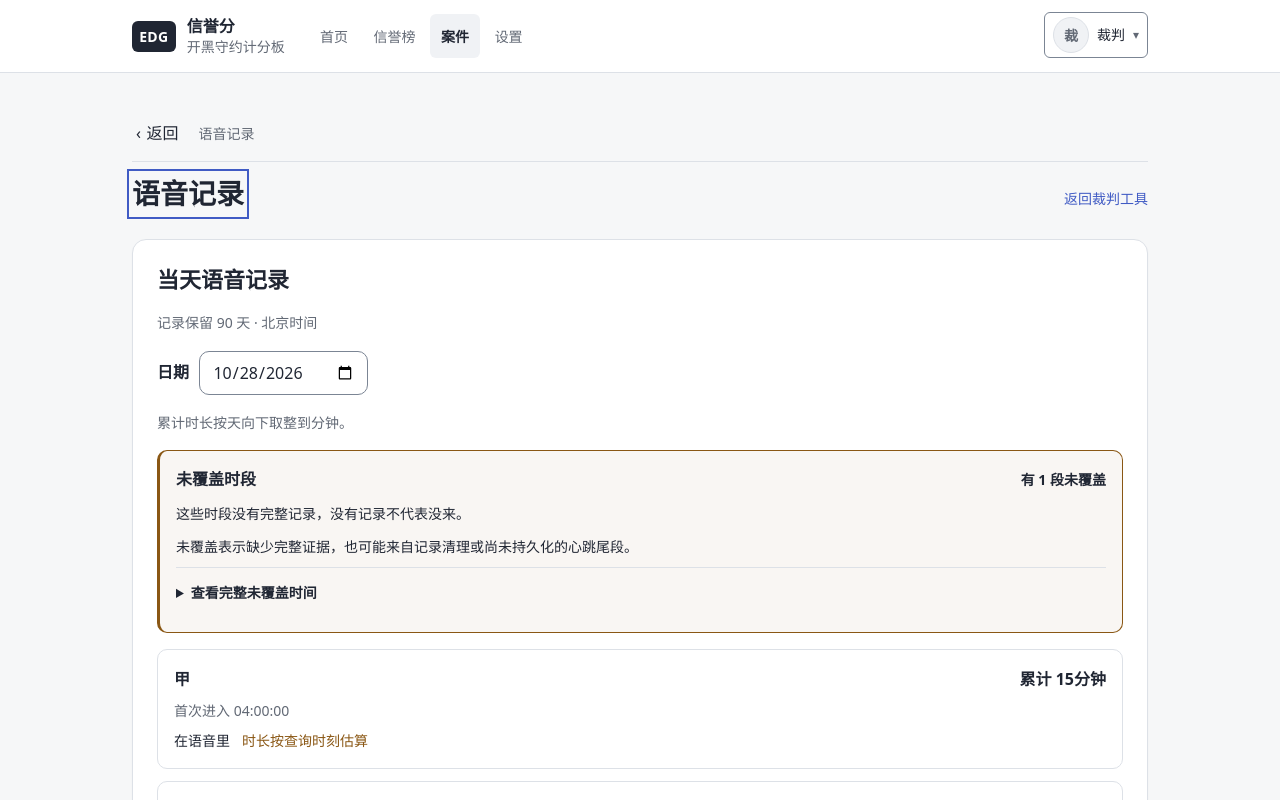
Scenario: voice management page › pushes a selected person into the URL and fetches their default seven-day history
What coordinates should you click on to do the following:
click the link "甲 累计 15分钟 首次进入 04:00:00 在语音里 时长按查询时刻估算"
I would click on:
 (1038, 679)
Its box is [157,649,1123,769].
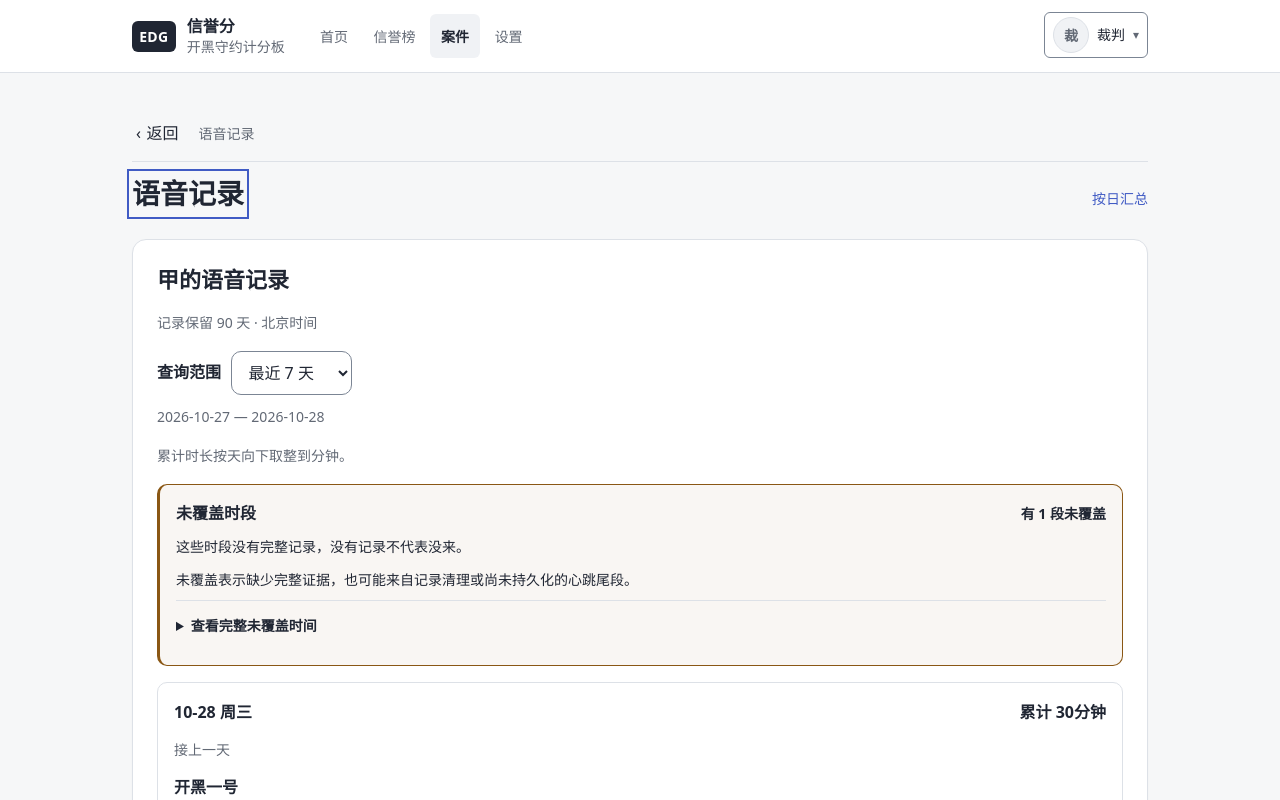
Now the heading "甲的语音记录" is shown, box [157,264,289,294]
Now the text "接上一天" is shown 2 times
